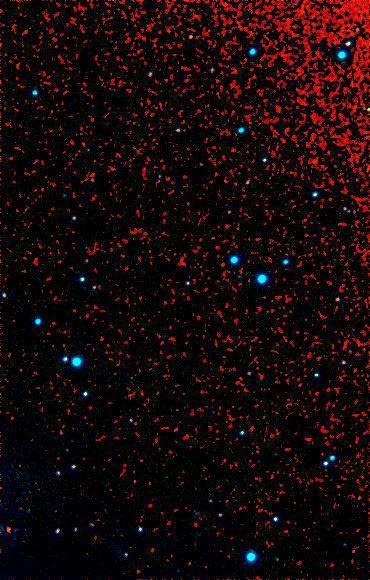star: (0, 513, 23, 543)
